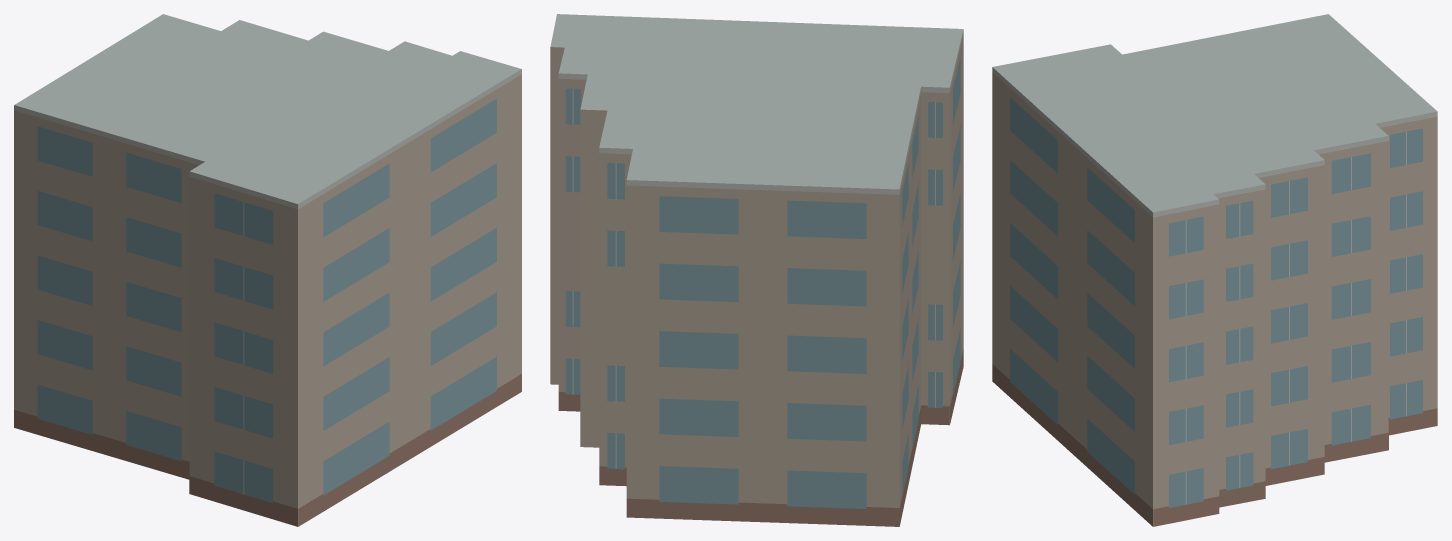
Rendered from survey-upis-32797124.glb.
3 views of the same model, side by side, from view 1: azimuth 30°, elevation 25°; view 2: azimuth 150°, elevation 25°; view 3: azimuth 270°, elevation 25° (orthographic). The views are drawn at different scales.
Parts seen in each view (by area): view 1: survey-upis-32797124.tmp; view 2: survey-upis-32797124.tmp; view 3: survey-upis-32797124.tmp.
Part boxes in pixels (box(x1,y1,x2,y2)): survey-upis-32797124.tmp: box(14, 14, 521, 526); survey-upis-32797124.tmp: box(550, 14, 963, 526); survey-upis-32797124.tmp: box(992, 14, 1437, 526).
Size of the model in its own units: 20.67 by 15.25 by 19.59.
